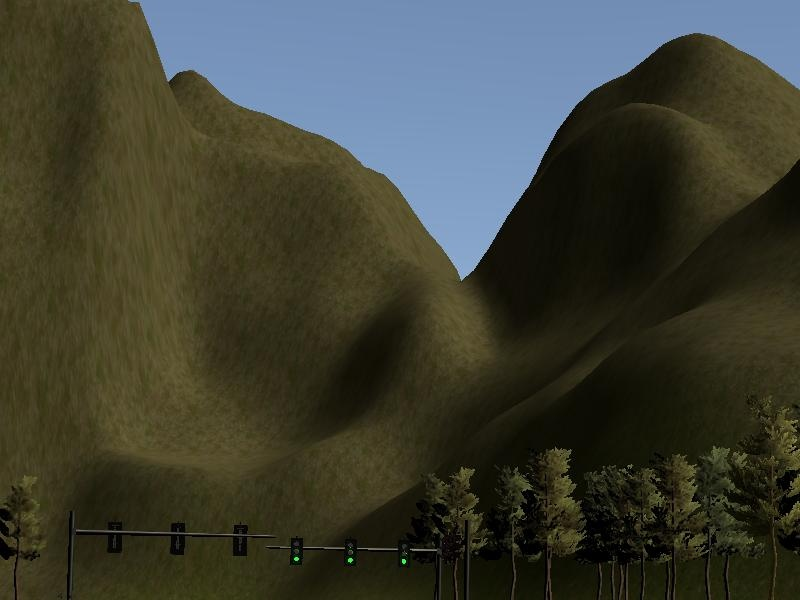green: (343, 535, 357, 570), (396, 538, 412, 568), (288, 535, 303, 566)
